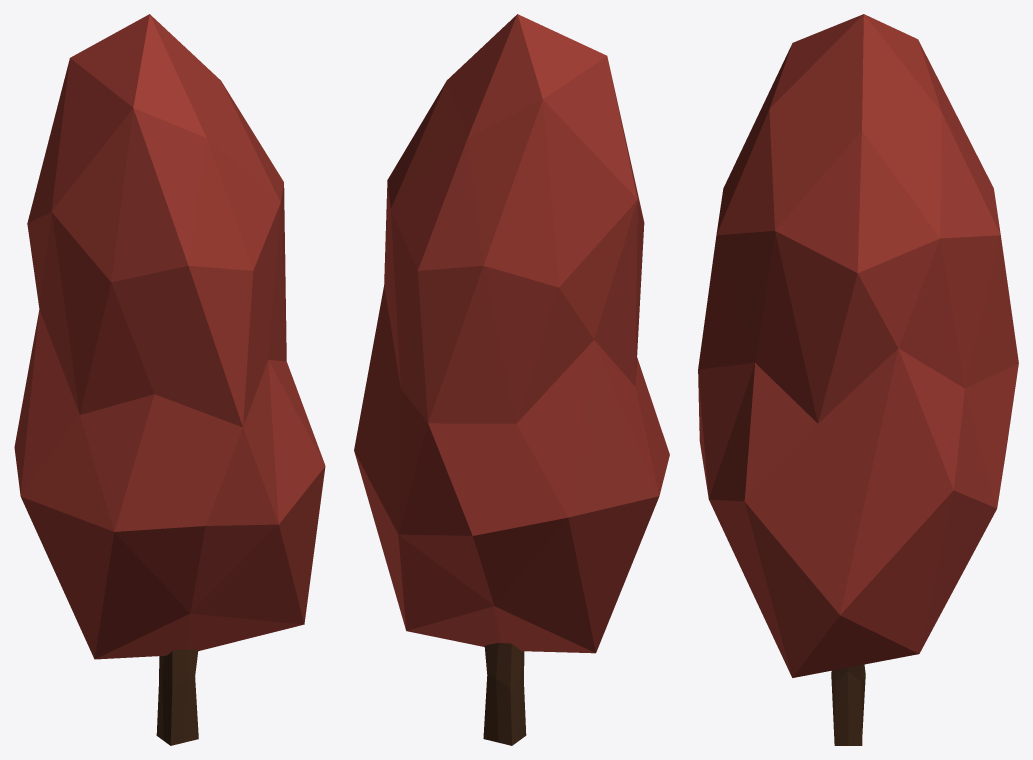
The model's file is Tree_60_Red.fbx.
3 renders of one model, left to right at view 1: azimuth 30°, elevation 25°; view 2: azimuth 150°, elevation 25°; view 3: azimuth 270°, elevation 25°, orthographic. The views are drawn at different scales.
Visible parts, largest first — view 1: Tree_60_Red_Part_1, Tree_60_Red_Part_2; view 2: Tree_60_Red_Part_1, Tree_60_Red_Part_2; view 3: Tree_60_Red_Part_1, Tree_60_Red_Part_2.
Boxes of the visible parts, x1,y1,x2,y2 form: Tree_60_Red_Part_1: (14, 14, 325, 659); Tree_60_Red_Part_2: (156, 649, 198, 745); Tree_60_Red_Part_1: (354, 14, 669, 653); Tree_60_Red_Part_2: (483, 643, 526, 745); Tree_60_Red_Part_1: (698, 14, 1018, 677); Tree_60_Red_Part_2: (831, 664, 865, 745).
Size of the model in its own units: 327 by 788 by 320.
